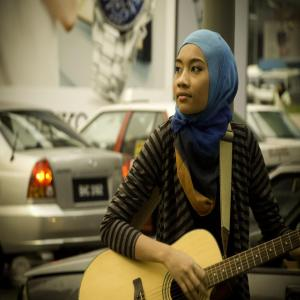Vehicle-registration-plate: (75, 179, 111, 203)
